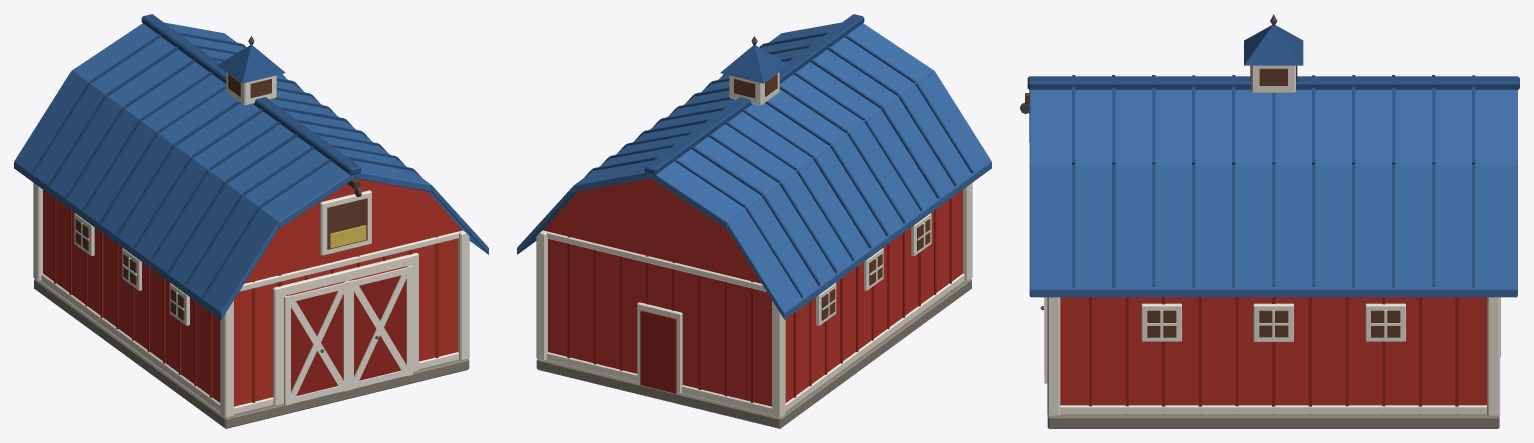
Rendered from Barn.fbx.
The picture shows the model from 3 angles, left to right: view 1: azimuth 30°, elevation 25°; view 2: azimuth 150°, elevation 25°; view 3: azimuth 270°, elevation 25°; orthographic projection. The views are drawn at different scales.
Parts seen in each view (by area): view 1: Barn; view 2: Barn; view 3: Barn.
Boxes of the visible parts, box(x1,y1,x2,y2) form: Barn: box(14, 14, 488, 428); Barn: box(517, 14, 991, 428); Barn: box(1020, 14, 1519, 428).
Bounding box in the file's own units: 8.4 × 8.77 × 11.5.
